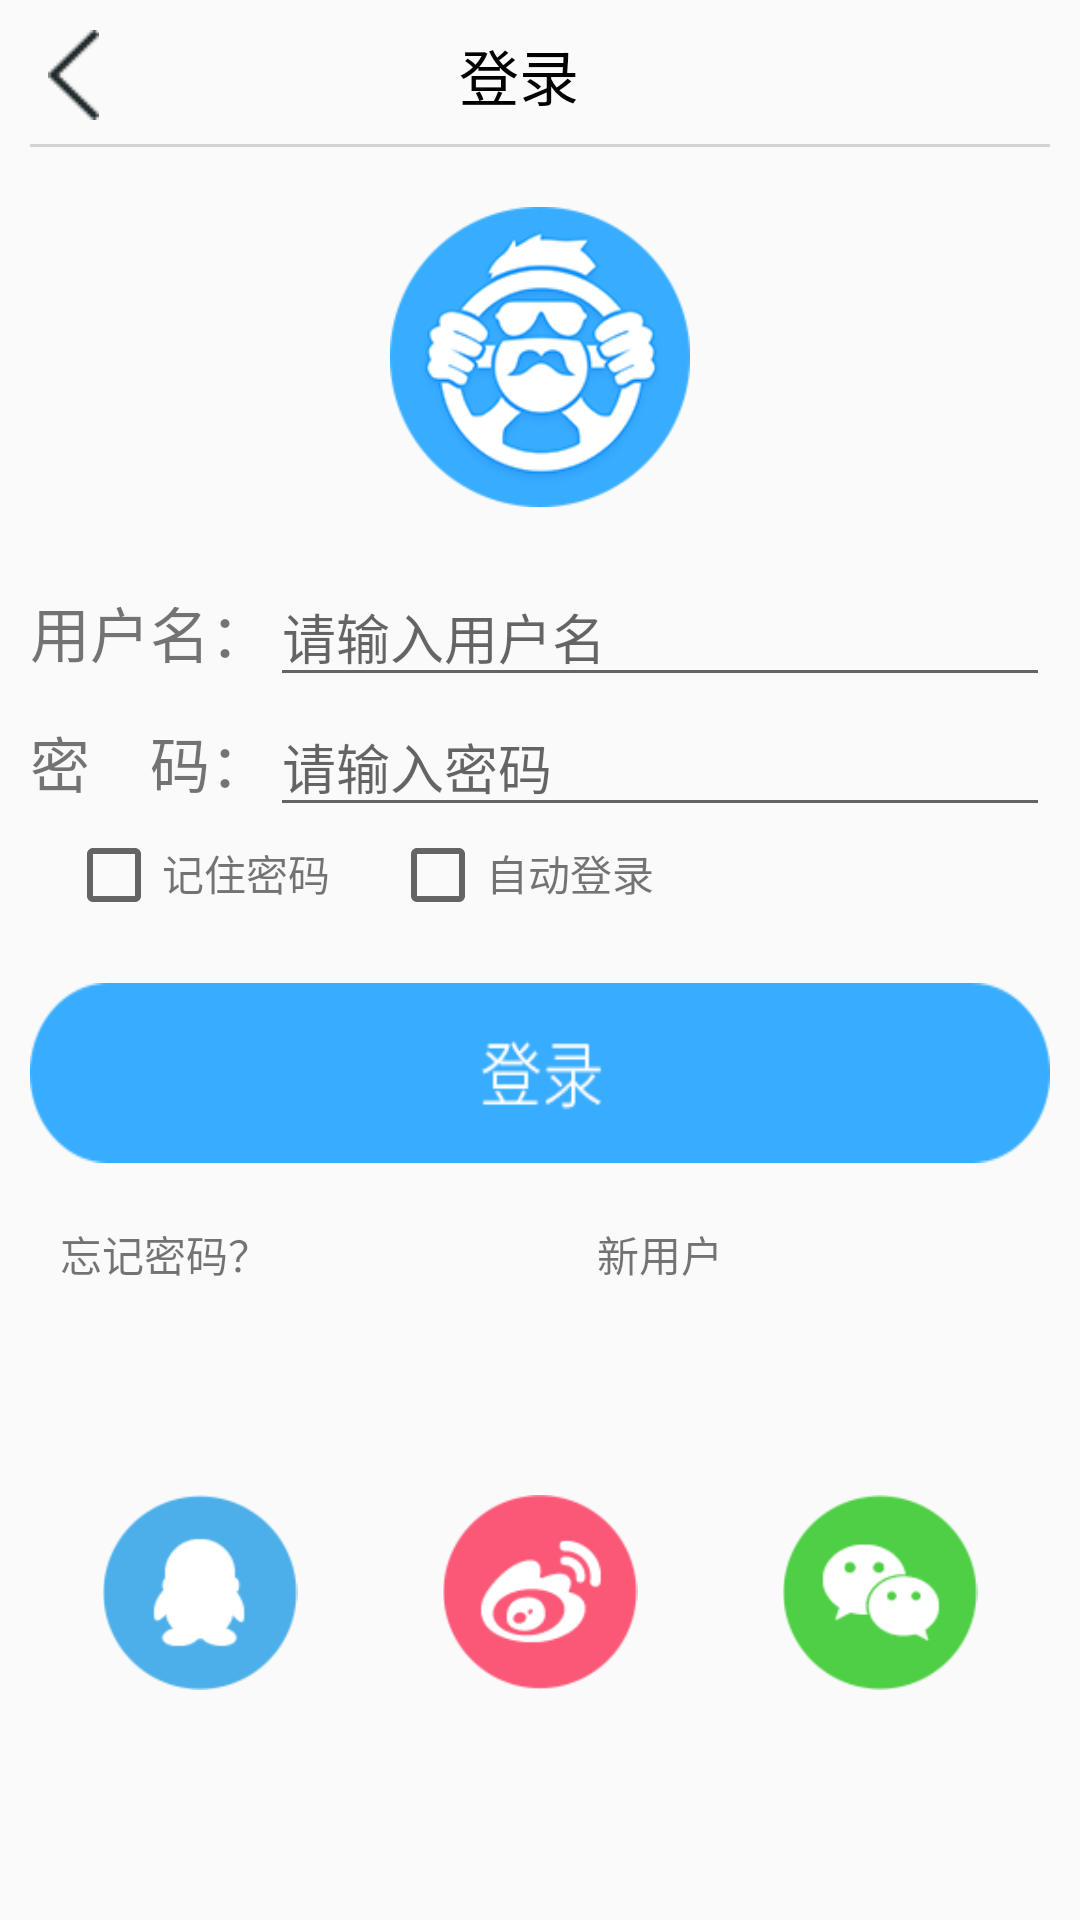

Screen size 1080px x 1920px. Icon name, then its box in pixels as [x1,y1,x2,y2]:
back car: [48,30,99,120]
